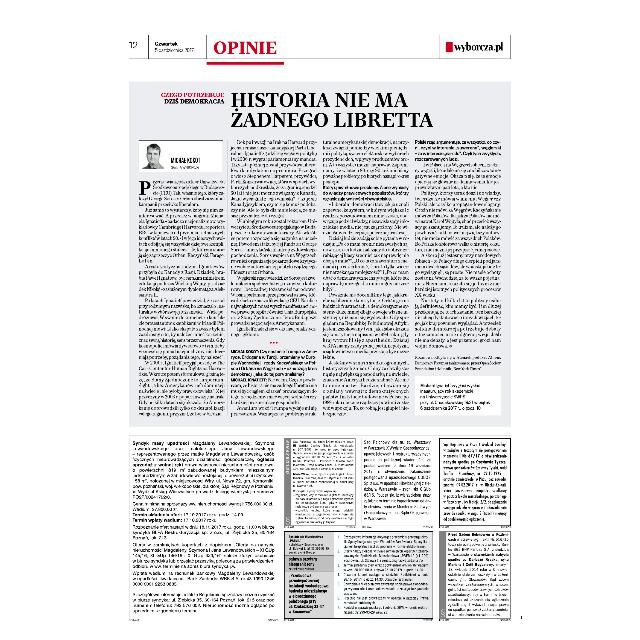article: (135, 85, 505, 419)
